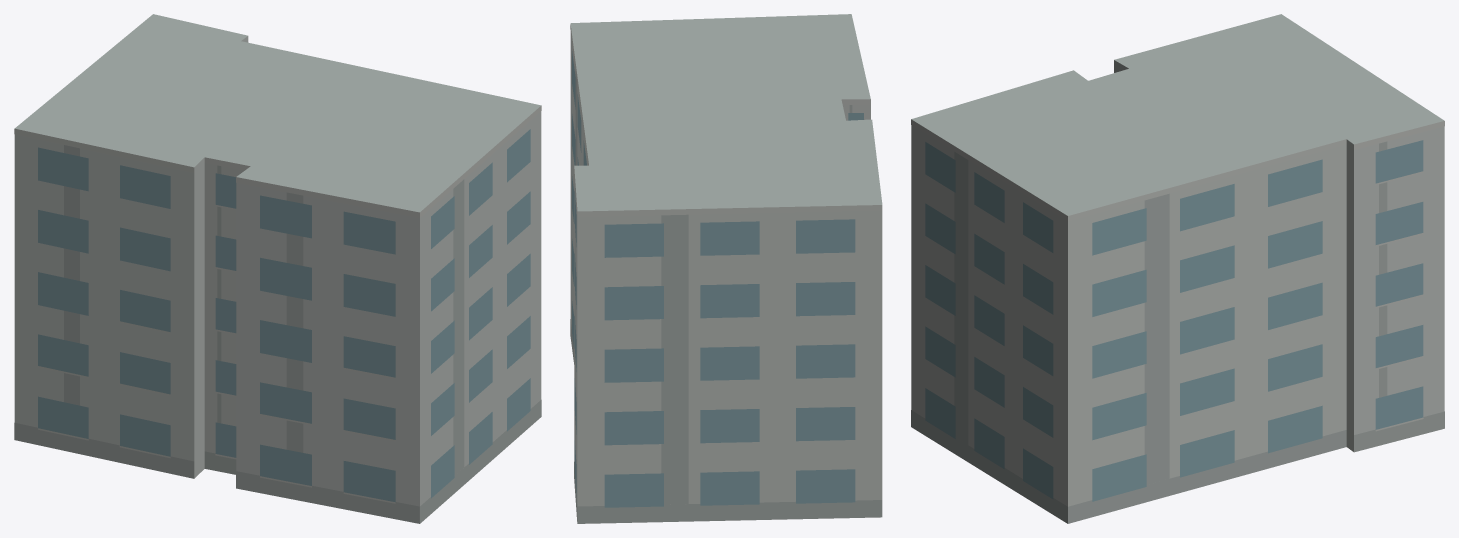
Rendered from survey-upis-32711007.glb.
3 views of the same model, side by side, from view 1: azimuth 30°, elevation 25°; view 2: azimuth 150°, elevation 25°; view 3: azimuth 270°, elevation 25° (orthographic).
Parts seen in each view (by area): view 1: survey-upis-32711007.tmp; view 2: survey-upis-32711007.tmp; view 3: survey-upis-32711007.tmp.
Boxes of the visible parts, box(x1,y1,x2,y2) form: survey-upis-32711007.tmp: box(14, 14, 541, 523); survey-upis-32711007.tmp: box(570, 14, 882, 523); survey-upis-32711007.tmp: box(911, 14, 1444, 523).
Bounding box in the file's own units: 18.84 × 13.38 × 21.03.
